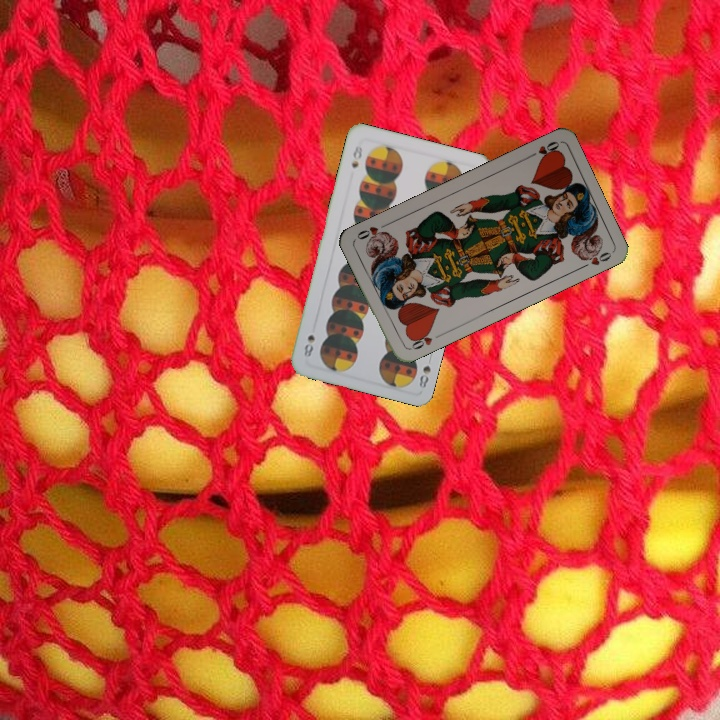HO: (405, 326, 443, 353), (523, 137, 562, 162)
S8: (415, 351, 435, 391), (347, 141, 365, 170)
